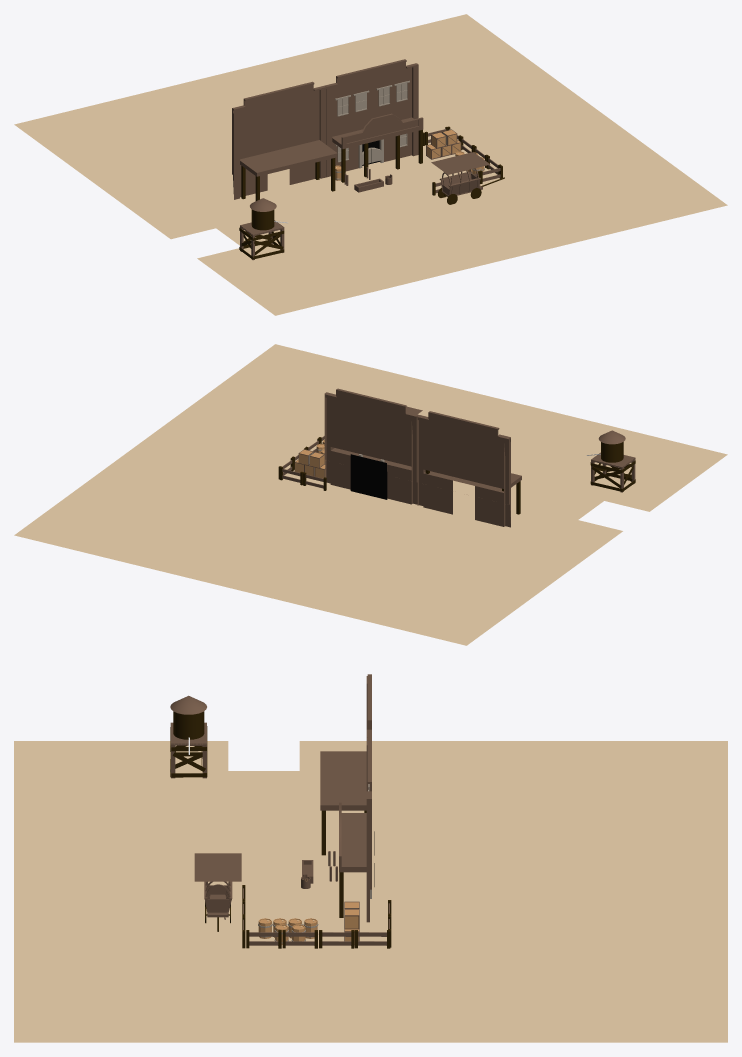
File: ASSETPACK1 _Saloon_Fass_Kiste_Zaun_Wassertrog_Bucket_Wasserturm 1.fbx
The picture shows the model from 3 angles, top to bottom: view 1: azimuth 30°, elevation 25°; view 2: azimuth 150°, elevation 25°; view 3: azimuth 270°, elevation 25°; orthographic projection. The views are drawn at different scales.
Visible parts, largest first — view 1: pPlane1, pCube36, pCube1, pasted__pPlane1, pasted__polySurface3; view 2: pPlane1, pCube36, pCube1, pPlane2; view 3: pPlane1, pCube36, pCube1, pasted__pPlane1, pCylinder6, pasted__polySurface3.
Part boxes in pixels (box(x1,y1,x2,y2)): pPlane1: box(14, 14, 727, 315); pCube36: box(232, 81, 337, 199); pCube1: box(325, 59, 423, 177); pasted__pPlane1: box(431, 152, 490, 174); pasted__polySurface3: box(439, 171, 482, 196); pPlane1: box(14, 344, 727, 645); pCube36: box(417, 411, 521, 527); pCube1: box(324, 388, 418, 504); pPlane2: box(350, 454, 387, 499); pPlane1: box(14, 741, 727, 1042); pCube36: box(320, 674, 371, 810); pCube1: box(339, 736, 371, 922); pasted__pPlane1: box(194, 853, 241, 881); pCylinder6: box(173, 711, 204, 739); pasted__polySurface3: box(204, 881, 232, 919).
Size of the model in its own units: 165 by 34.21 by 165.
